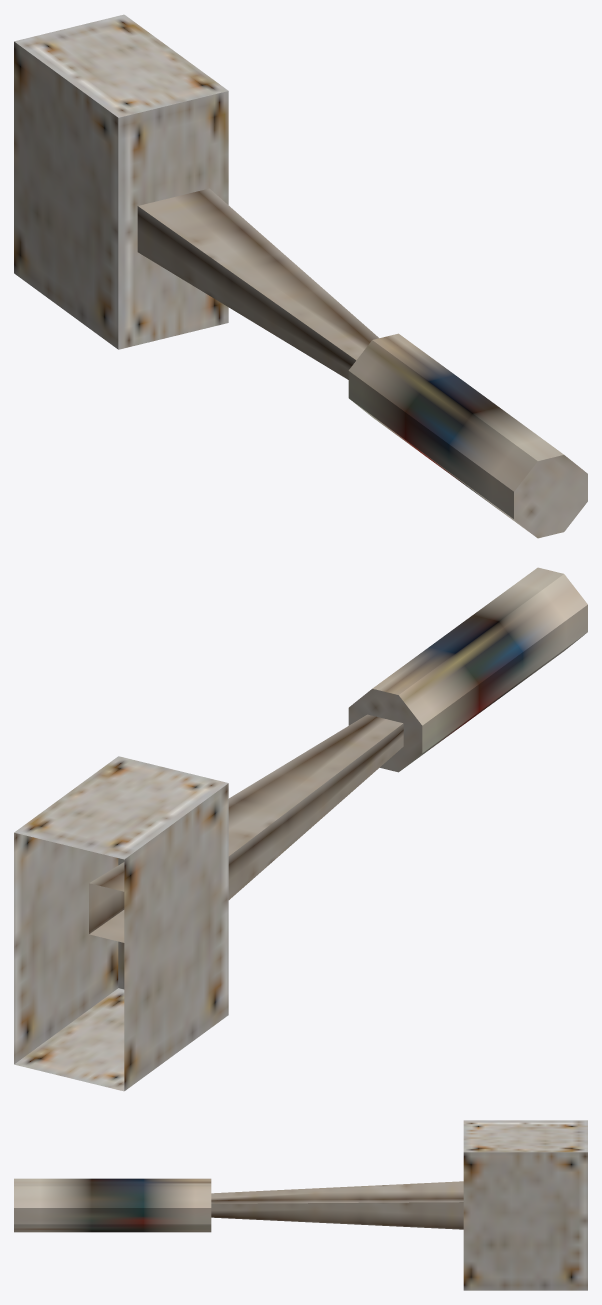
The model's file is SM_ElectricityBox_PrefabLever_01.fbx.
3 renders of one model, top to bottom at view 1: azimuth 30°, elevation 25°; view 2: azimuth 150°, elevation 25°; view 3: azimuth 270°, elevation 25°, orthographic. The views are drawn at different scales.
Visible parts, largest first — view 1: Cube.001; view 2: Cube.001; view 3: Cube.001.
Boxes of the visible parts, left/top/right/bottom form: Cube.001: left=14, top=14, right=587, bottom=538; Cube.001: left=14, top=567, right=587, bottom=1091; Cube.001: left=14, top=1120, right=587, bottom=1290.
Bounding box in the file's own units: 6.59 × 13.23 × 49.83.
